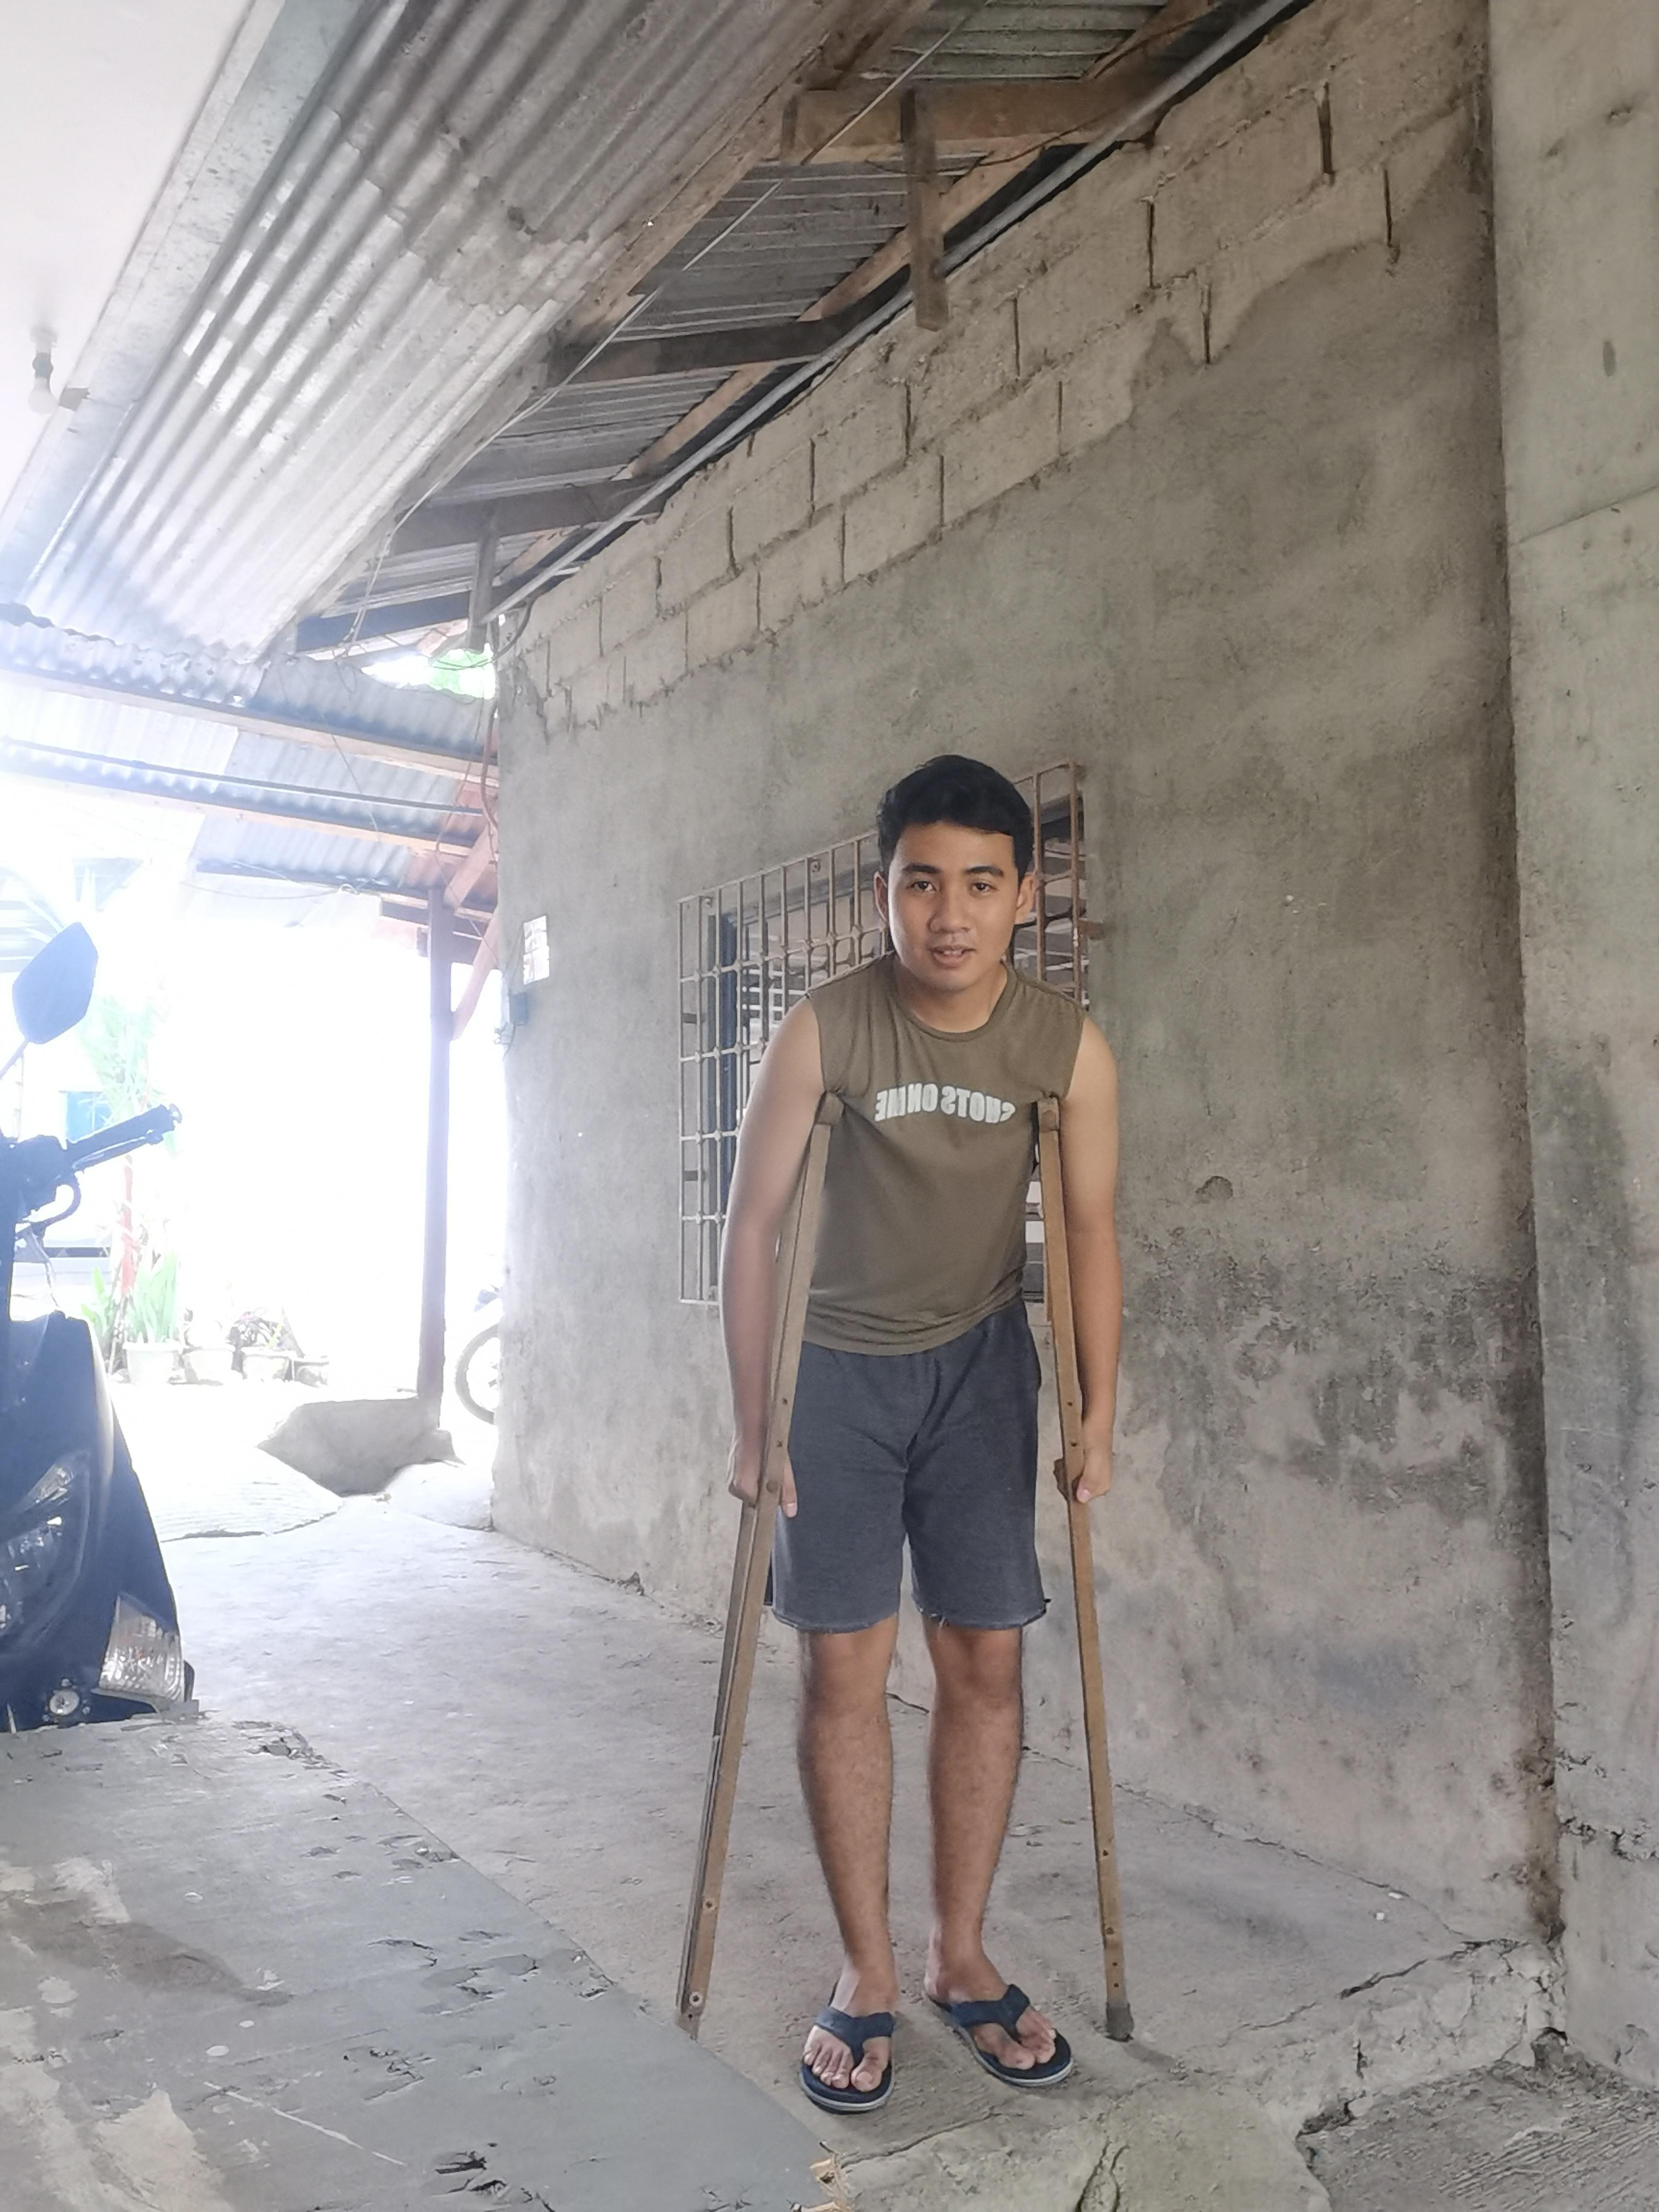crutches: (667, 740, 1148, 2123)
